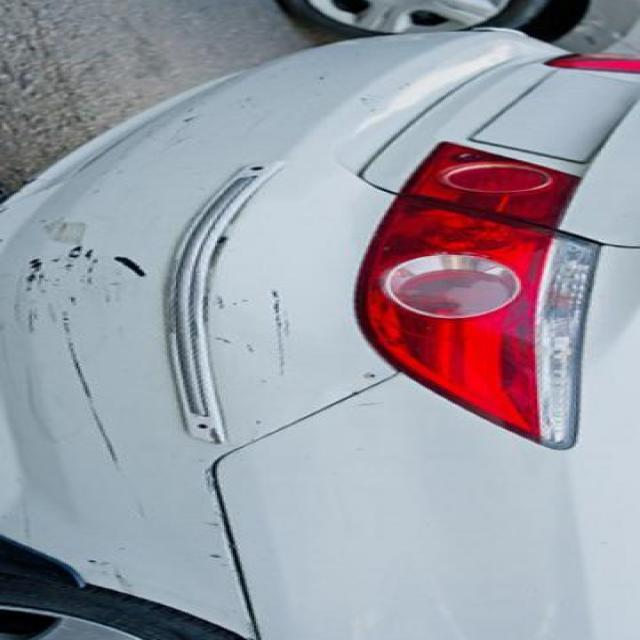scratch: (48, 307, 134, 472), (263, 281, 308, 394)
